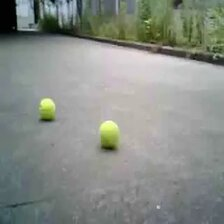tennis: (99, 120, 119, 147), (37, 98, 55, 118)
